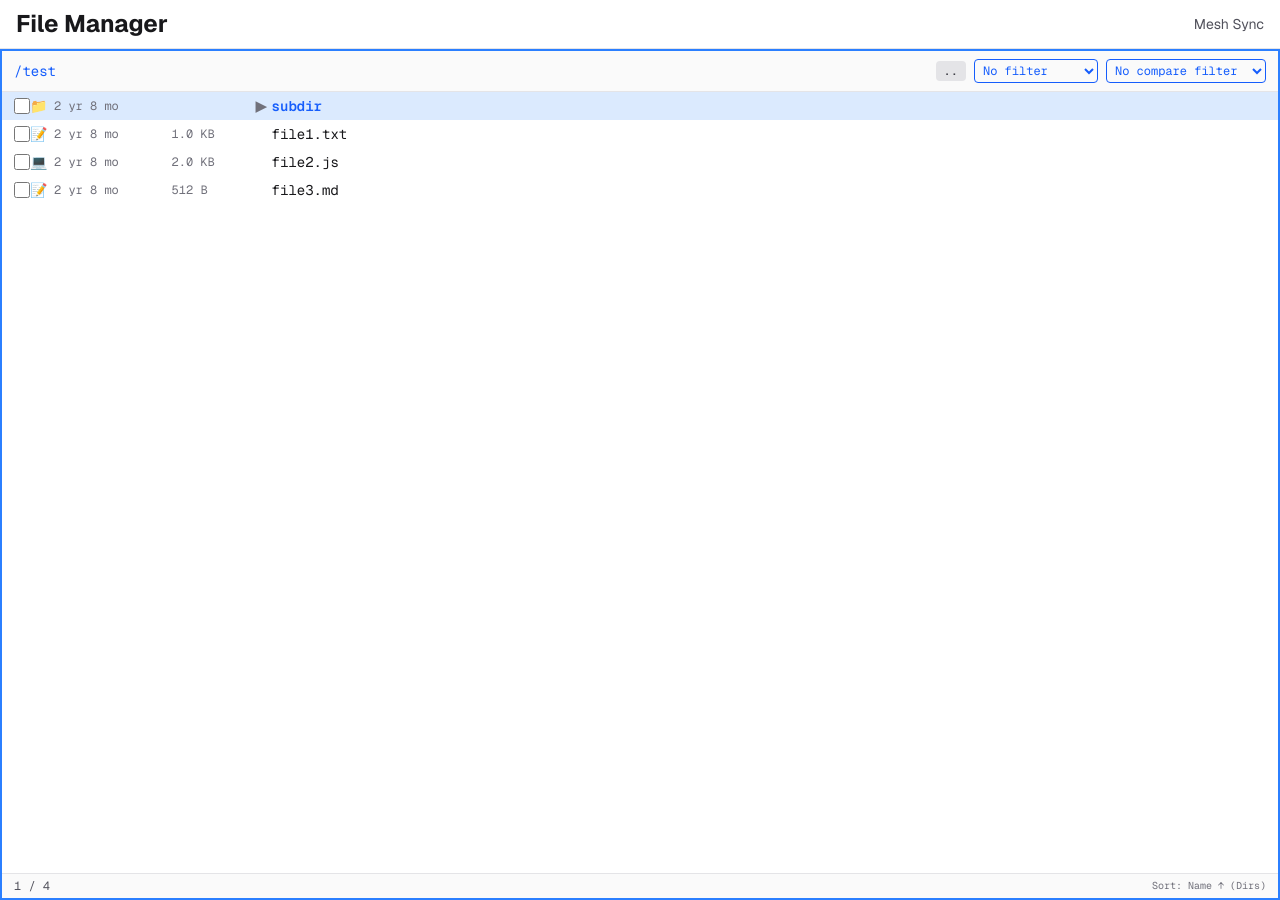
WorkspaceView - File Marking [TEST-FILE_MARKING] [REQ-FILE_MARKING_WEB] › Mark Visual Feedback [IMPL-FILE_MARKING] › should allow marking via checkbox click [REQ-FILE_MARKING_WEB]
Note: Click checkbox to mark
Click the checkbox in the row of "subdir": (22, 106) top-left (14, 98), bottom-right (30, 114)
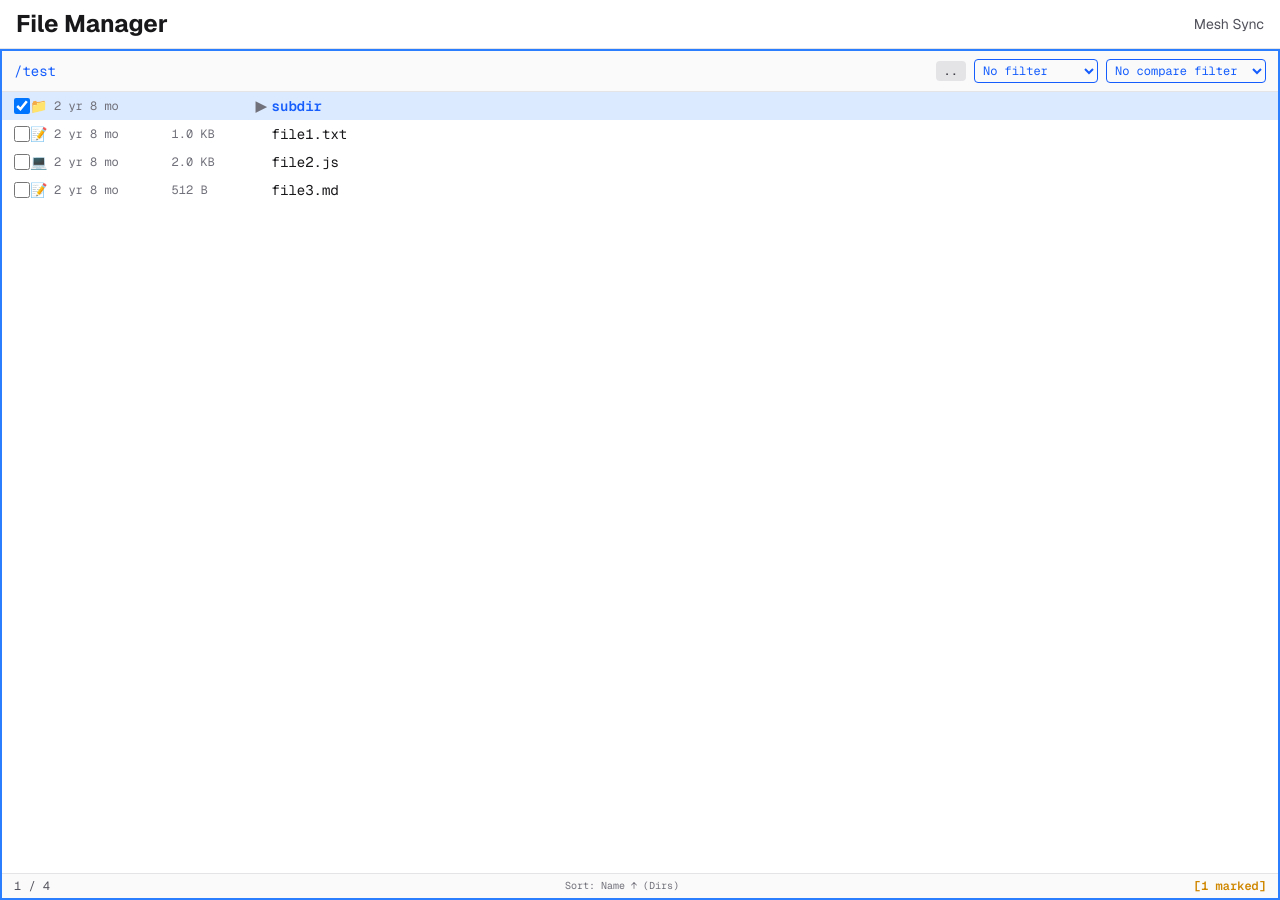
Now the text "[1 marked]" is shown, box top-left (1194, 878), bottom-right (1266, 894)
Note: Click again to unmark
Click the checkbox in the row of "subdir": (22, 106) top-left (14, 98), bottom-right (30, 114)
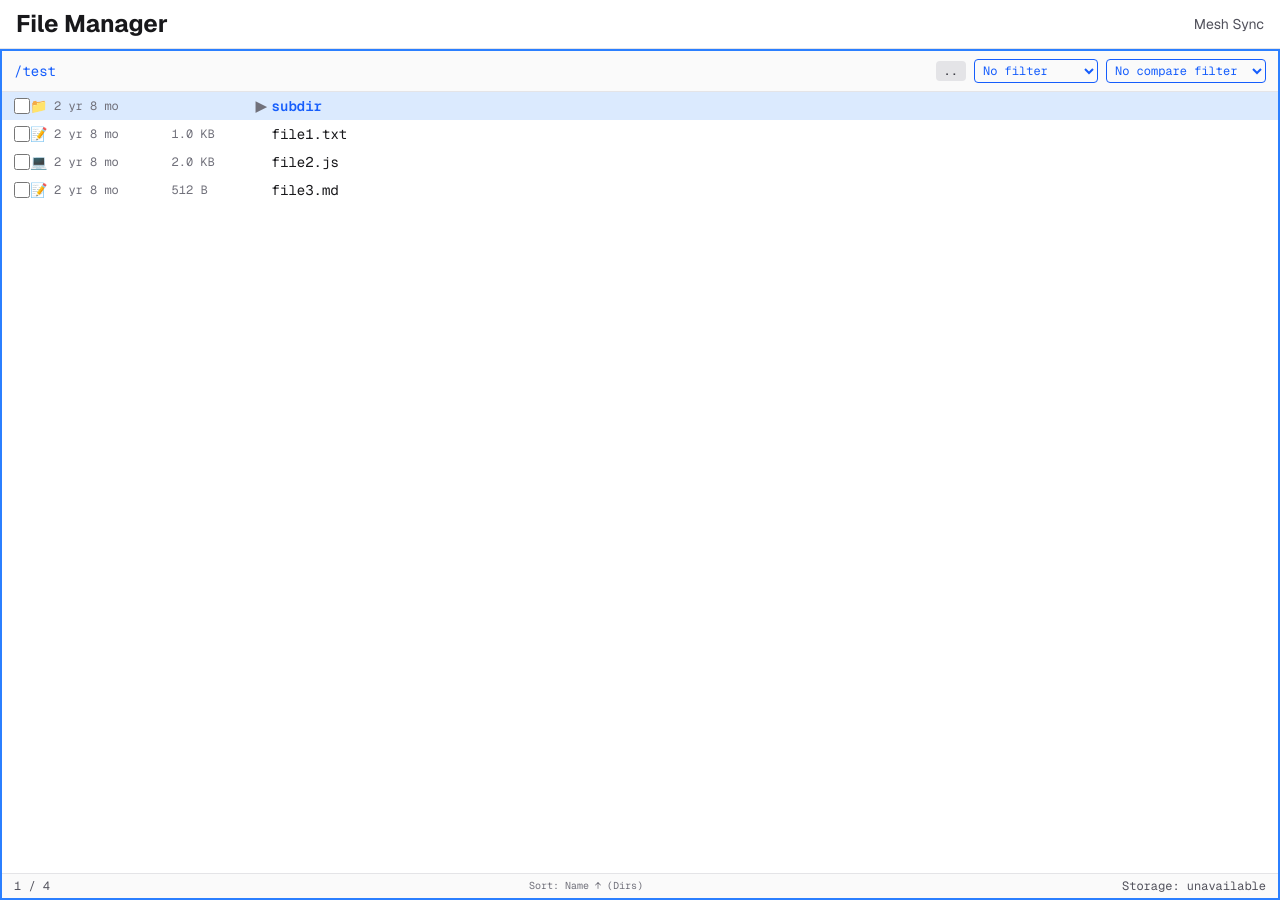
Now the text "marked" is gone
